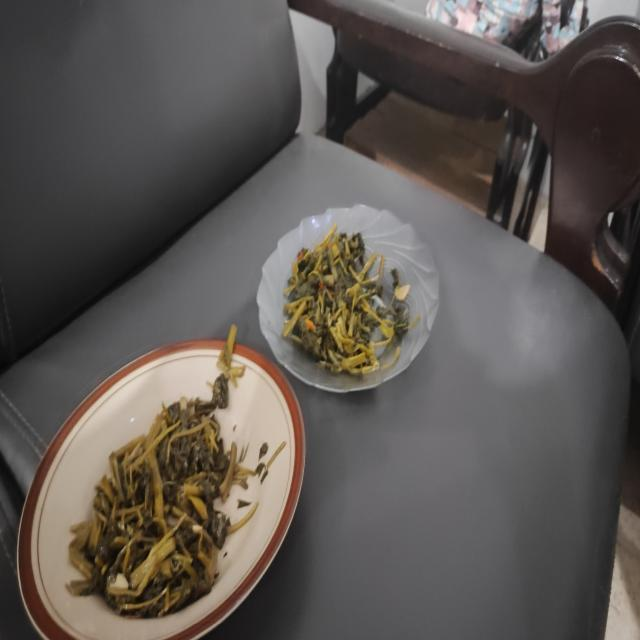tumis_kangkung: (66, 366, 258, 618), (282, 225, 410, 375)
